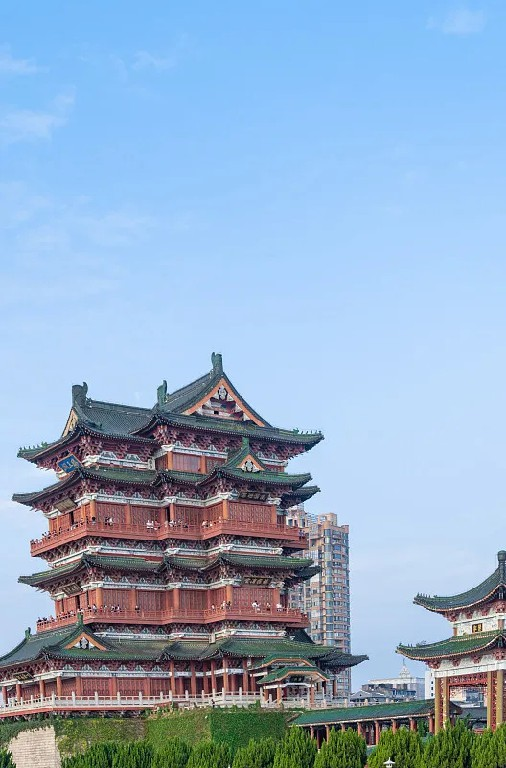Teng: (12, 352, 370, 704)
